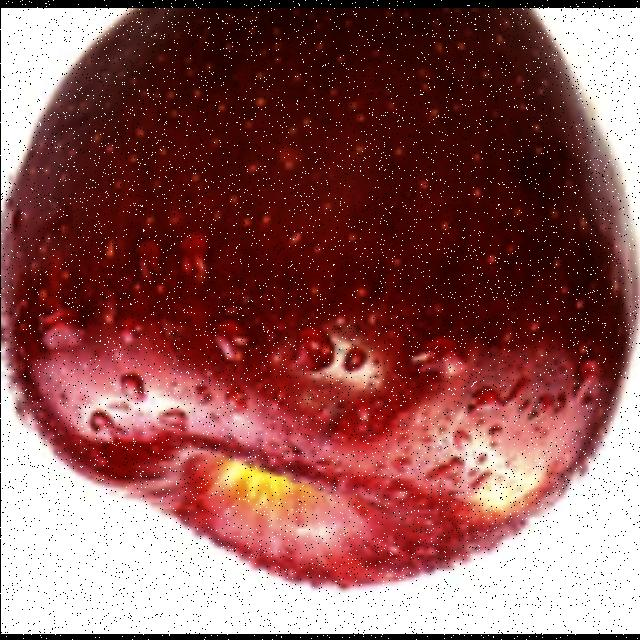Apel Segar: (8, 6, 640, 622)
